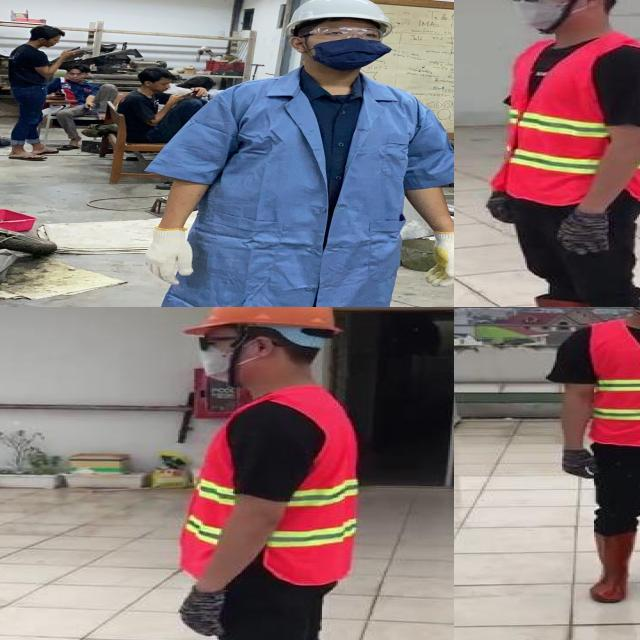boots: (583, 531, 640, 605), (489, 289, 606, 307)
face_mask: (190, 332, 268, 384), (304, 23, 387, 68), (505, 0, 580, 30)
face_nomask: (158, 79, 173, 92), (46, 37, 63, 48), (66, 71, 84, 81)
glasses: (296, 25, 386, 45), (503, 0, 576, 6)
hand_glove: (134, 225, 200, 288), (177, 585, 227, 639), (559, 210, 616, 255), (418, 226, 454, 284), (558, 450, 600, 481)
hand_noglove: (167, 92, 188, 103), (59, 48, 81, 58), (47, 92, 67, 102), (190, 86, 208, 97), (81, 102, 98, 110)
head_helmet: (180, 307, 342, 336), (282, 0, 394, 28)
head_nohelmet: (140, 66, 174, 81), (33, 23, 65, 38), (66, 63, 90, 72)
person: (123, 0, 454, 307), (150, 307, 374, 640), (470, 0, 640, 307), (547, 307, 640, 610), (2, 22, 70, 164), (41, 63, 122, 149), (120, 67, 206, 143)
vest: (171, 386, 357, 586), (484, 35, 640, 206), (581, 322, 640, 450)
